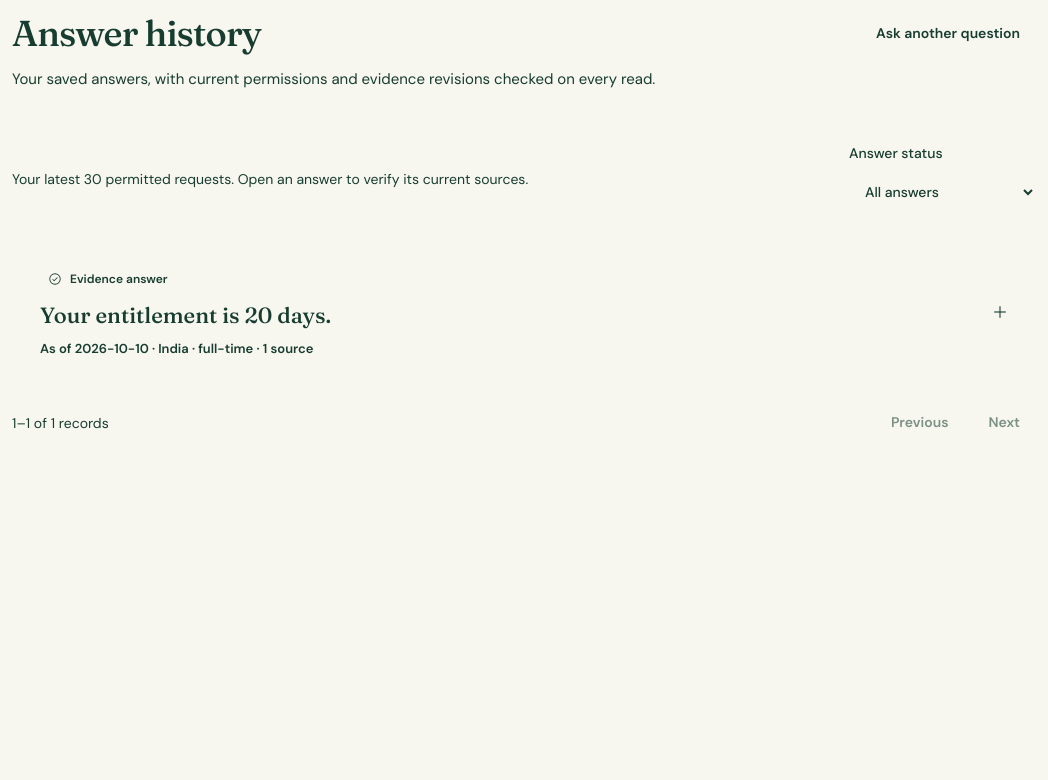
Test: a denied history citation closes its source view and refreshes the permitted history
The image size is (1048, 780).
Click the text "Your entitlement is 20 days.".
click(186, 316)  # box [40, 300, 331, 332]
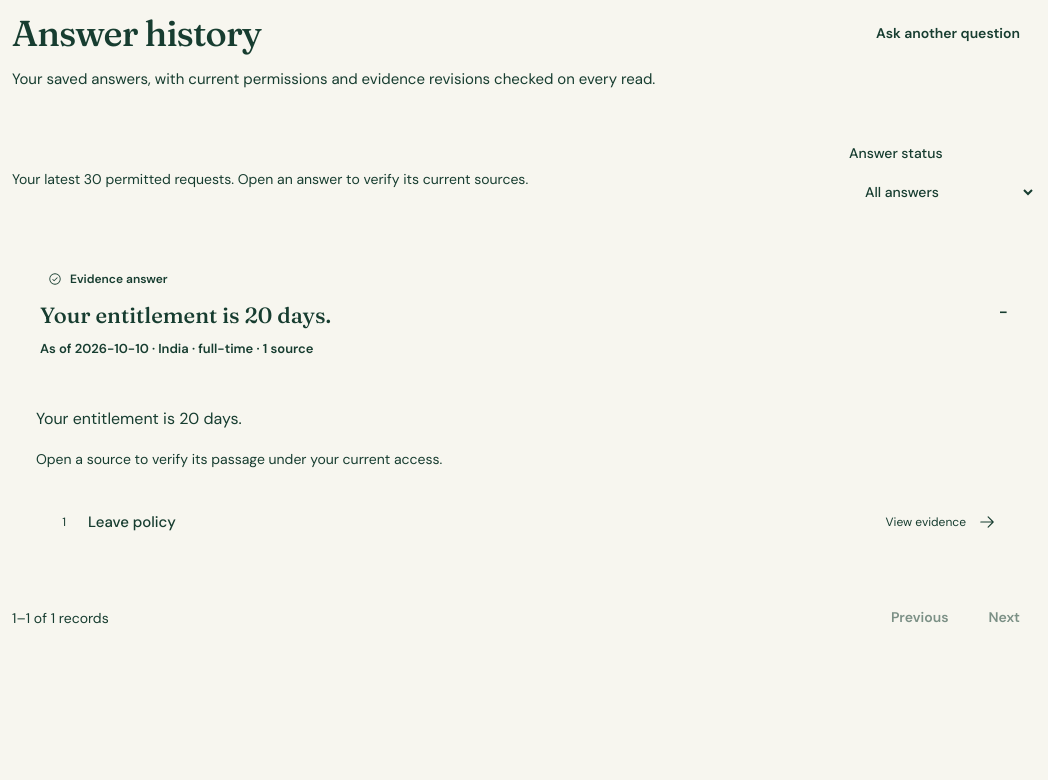
Click the button with aria-label "View evidence: Leave policy".
click(132, 522)  # box [36, 492, 1012, 552]
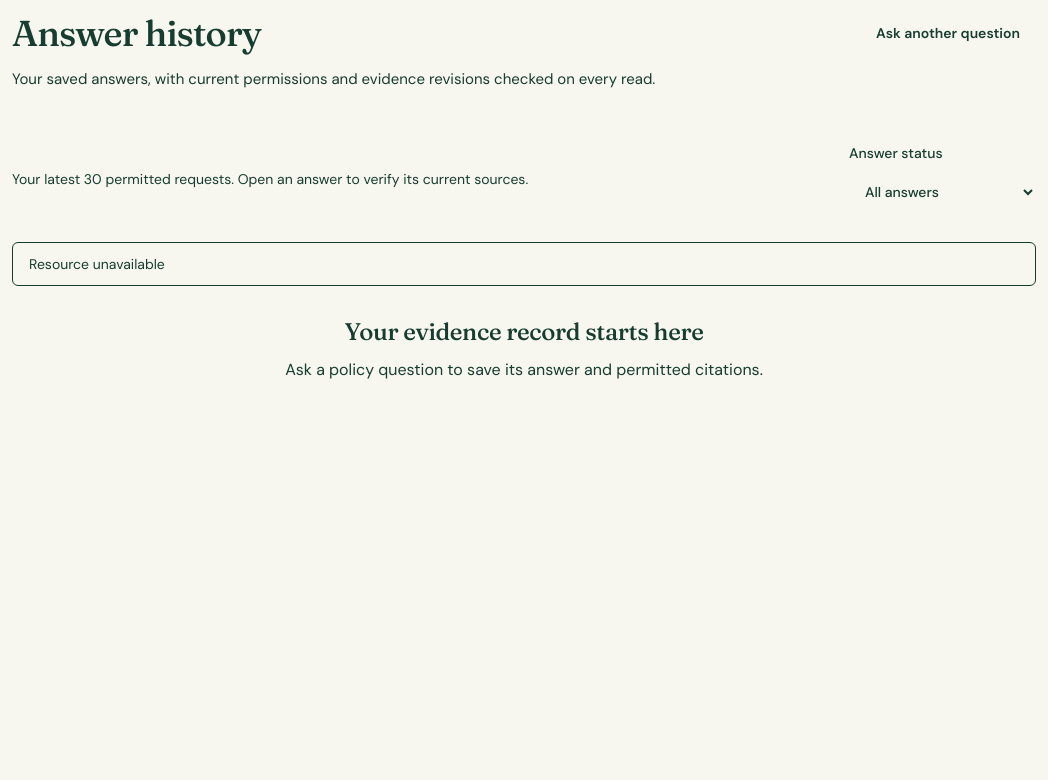
Expected: the message reads "Resource unavailable", [29, 255, 165, 273]
Expected: the heading "Your evidence record starts here" is shown, [344, 317, 704, 346]
